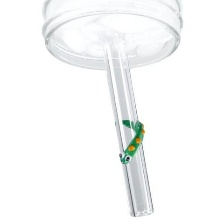drinking_straw: (100, 30, 158, 221)
glass: (33, 0, 190, 77)
